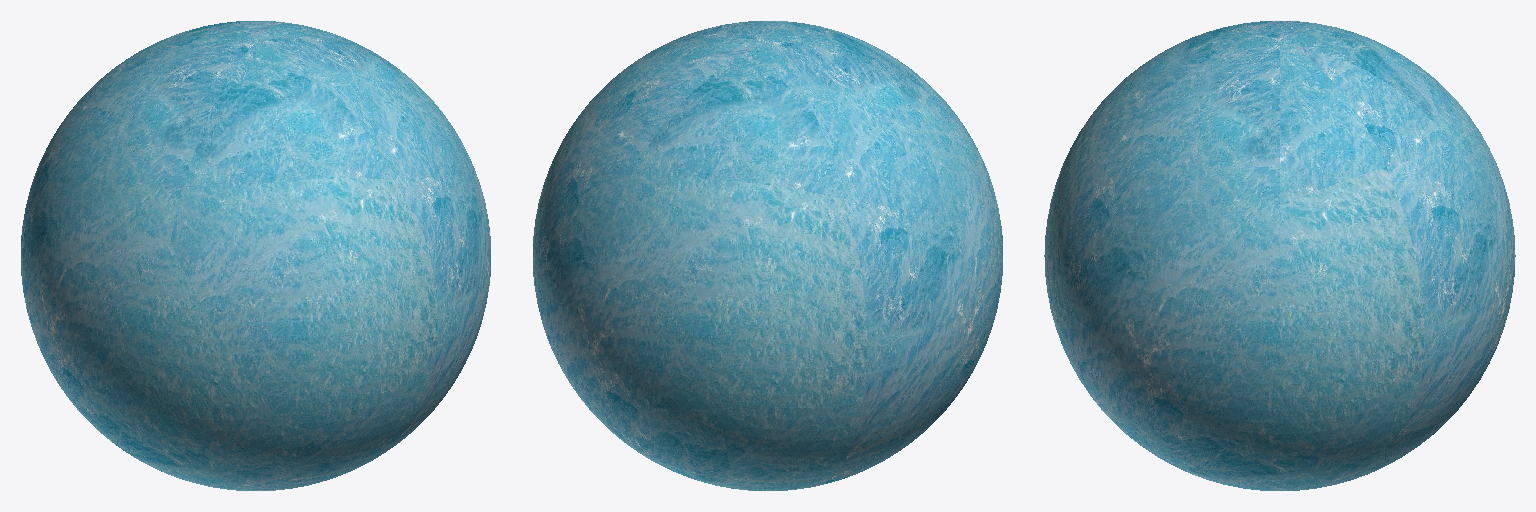
The picture shows the model from 3 angles: view 1: azimuth 30°, elevation 25°; view 2: azimuth 150°, elevation 25°; view 3: azimuth 270°, elevation 25°; orthographic projection.
Parts seen in each view (by area): view 1: Icosphere; view 2: Icosphere; view 3: Icosphere.
Boxes of the visible parts, box(x1,y1,x2,y2) form: Icosphere: box(21, 21, 490, 490); Icosphere: box(533, 21, 1002, 490); Icosphere: box(1044, 21, 1515, 490).
Bounding box in the file's own units: 29.8 × 29.8 × 29.8.
1 materials, 1 textured.